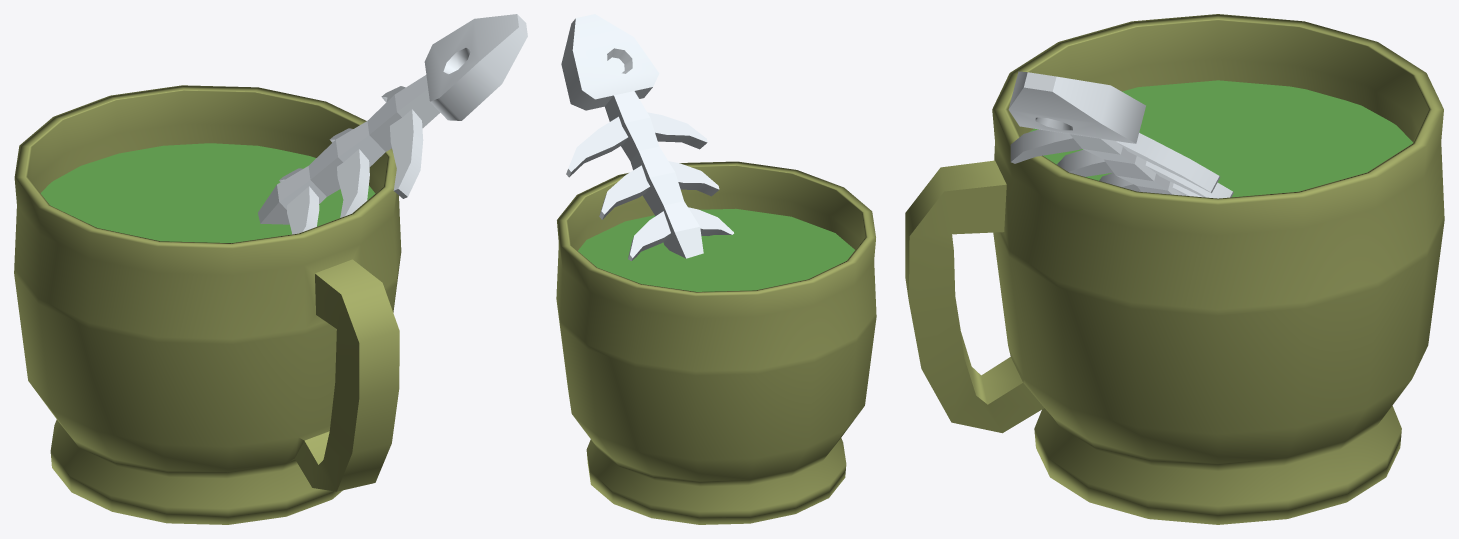
Rendered from drink5_chemical.fbx.
The picture shows the model from 3 angles, left to right: view 1: azimuth 30°, elevation 25°; view 2: azimuth 150°, elevation 25°; view 3: azimuth 270°, elevation 25°; orthographic projection. The views are drawn at different scales.
Parts seen in each view (by area): view 1: nurbsToPoly1, pDisc1, fishBones; view 2: nurbsToPoly1, fishBones, pDisc1; view 3: nurbsToPoly1, pDisc1, fishBones.
Boxes of the visible parts, bbox=[...] form: nurbsToPoly1: bbox=[14, 85, 401, 524]; pDisc1: bbox=[40, 143, 375, 242]; fishBones: bbox=[258, 14, 527, 234]; nurbsToPoly1: bbox=[556, 161, 876, 524]; fishBones: bbox=[561, 14, 733, 260]; pDisc1: bbox=[578, 208, 854, 291]; nurbsToPoly1: bbox=[905, 14, 1444, 524]; pDisc1: bbox=[1029, 80, 1412, 197]; fishBones: bbox=[1008, 71, 1233, 198].
Bounding box in the file's own units: 37.68 × 37.85 × 36.48.
